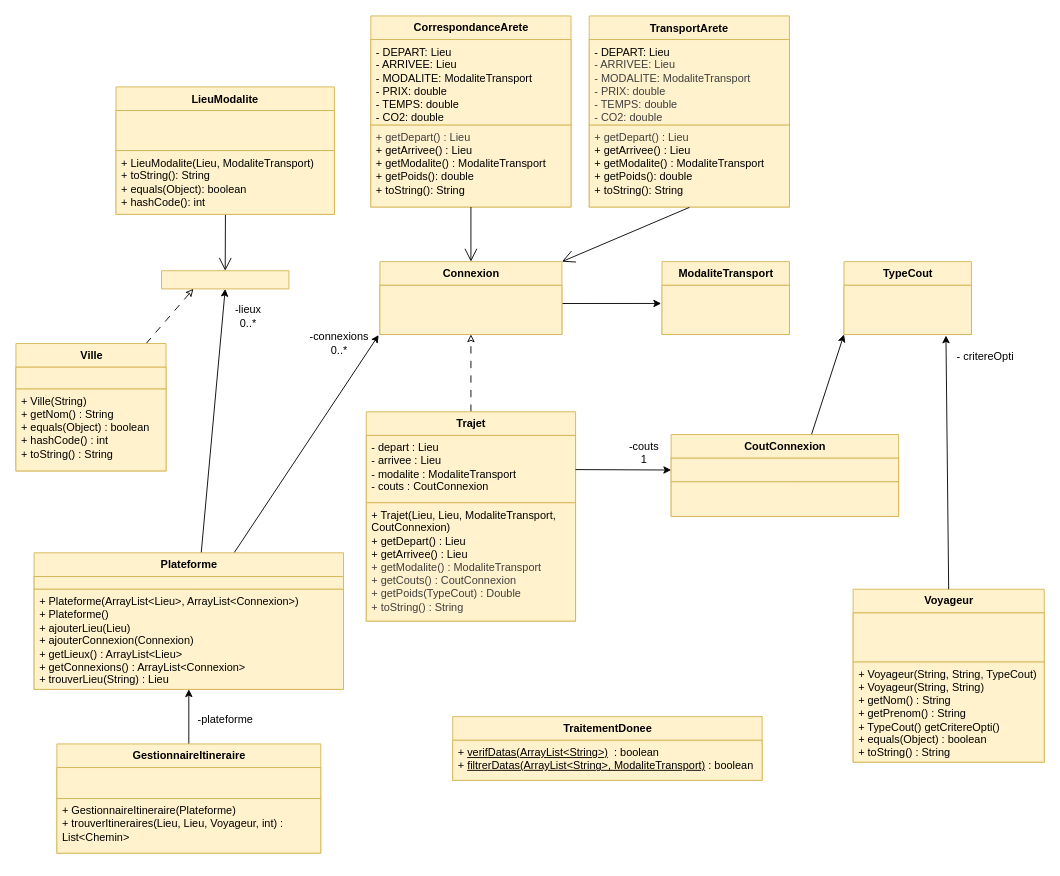
Image size: 1060x876. Some labels were removed from this diagram. The centre of each missing label's shape, as x and y in pixels:
+ CoutConnexion(Double, Double, Double) + getCout(TypeCout) : Double: the point at 784,498
+ getDepart() : Lieu + getArrivee() : Lieu + getModalite() : ModaliteTransport: the point at 470,309
- coutConnexion : Map<TypeCout, Double>: the point at 784,469
- LIEUORIGINE: Lieu - MODALITE: ModaliteTransport: the point at 224,130
- nom : String: the point at 90,377
- nom : String - prenom : String - critereOpti : TypeCout: the point at 948,637
<interface> Lieu: the point at 225,279
AVION TRAIN BUS: the point at 725,309
CO2 TEMPS PRIX: the point at 907,309
